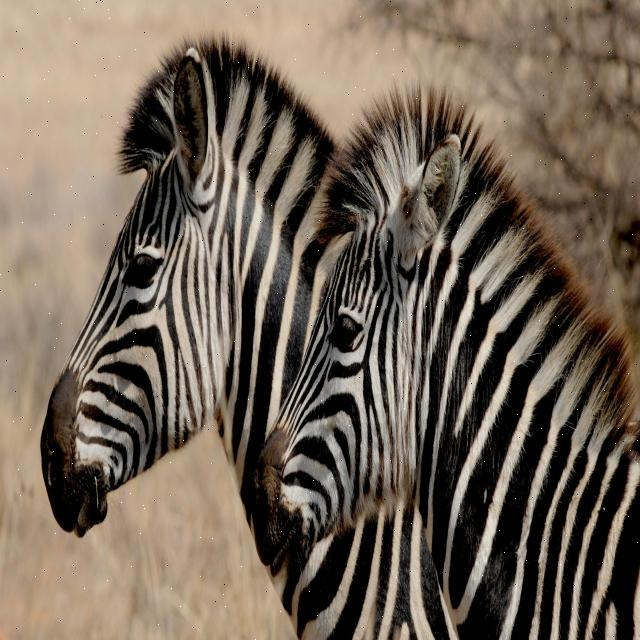Zebra: (41, 35, 640, 640), (252, 75, 640, 640)
